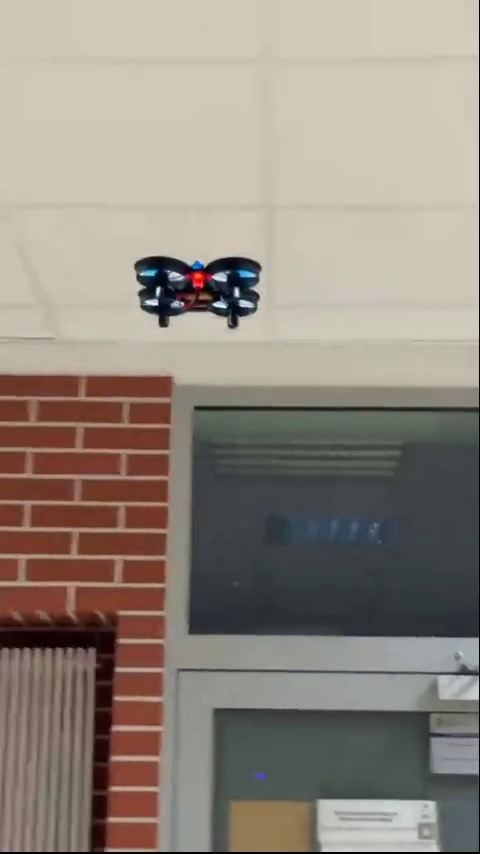drone: (131, 257, 274, 338)
